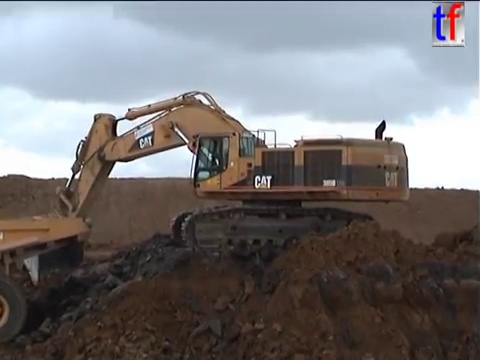excavator: (13, 88, 413, 291)
truck: (1, 213, 92, 346)
